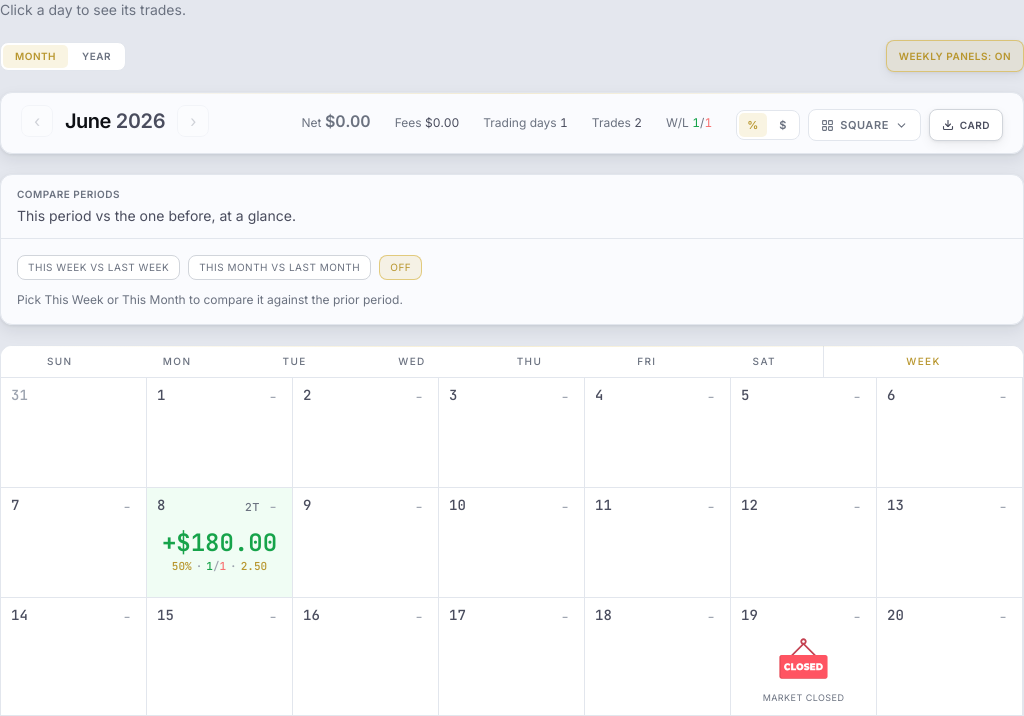
Test case: AM4 a ladder row opens the full week › AM4 the first June row shows Jun 1..6 and OPENS May 31..Jun 6
What coordinates should you click on to do the following:
click the button "Year"
I would click on:
 (97, 56)
Its box is [70,44,123,68].
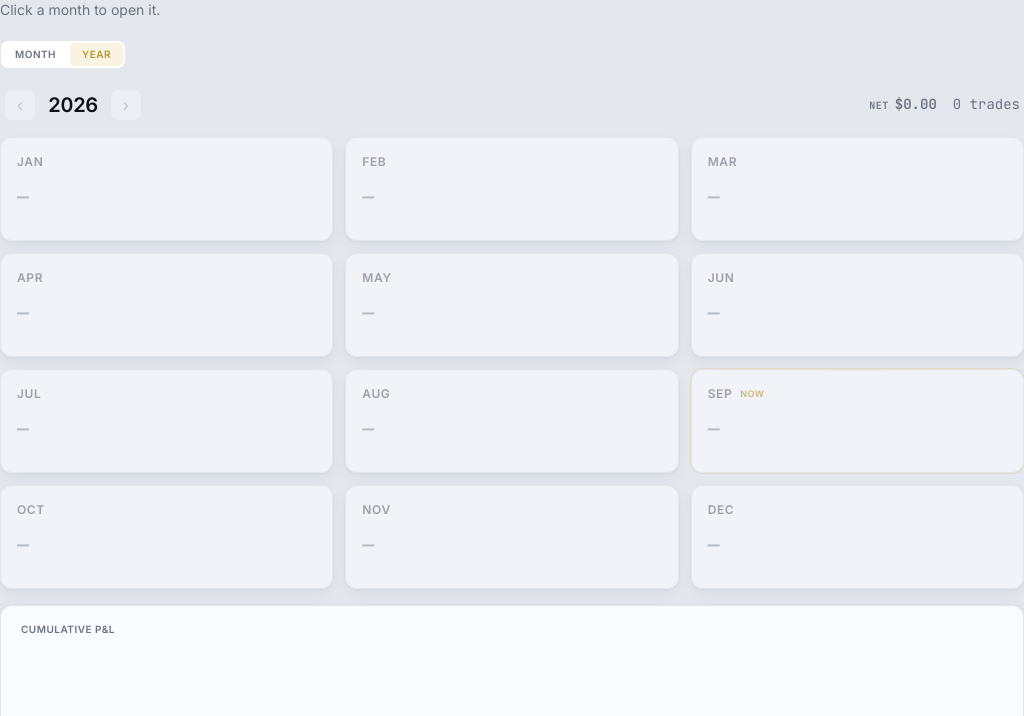
What coordinates should you click on to do the following:
click the button "Jun —"
I would click on:
 (721, 278)
Its box is [691,253,1023,357].
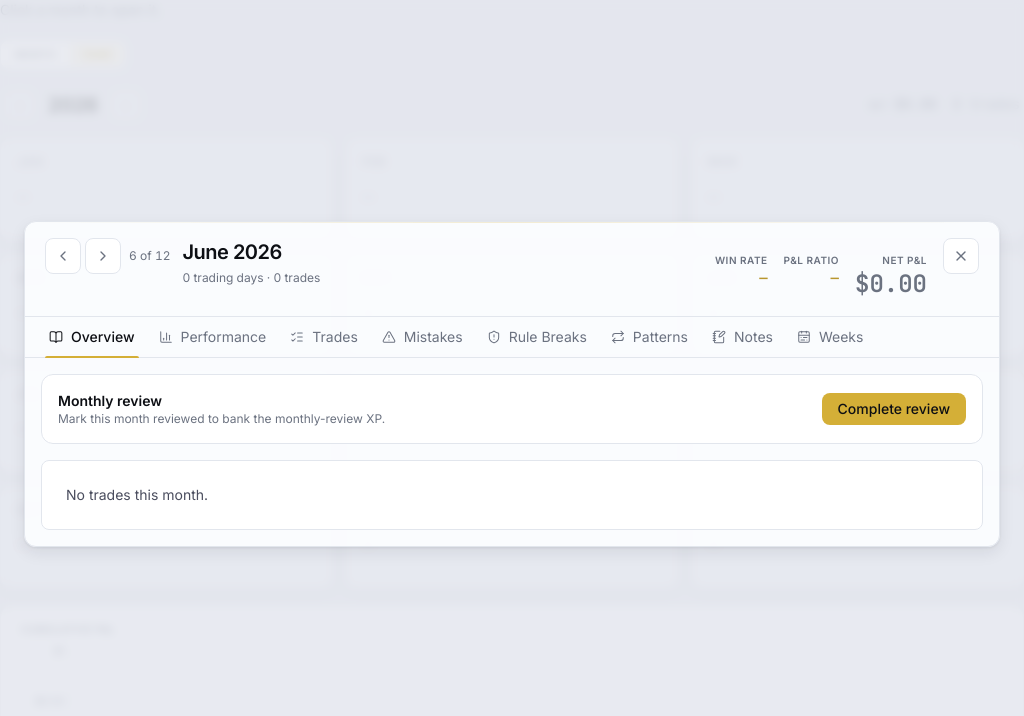
Check: the heading with id "month-review-title" reads "June 2026", box [182,240,282,264]
What coordinates should you click on to do the following:
click the tab "Weeks"
I would click on:
 (830, 337)
Its box is [785,317,875,357].
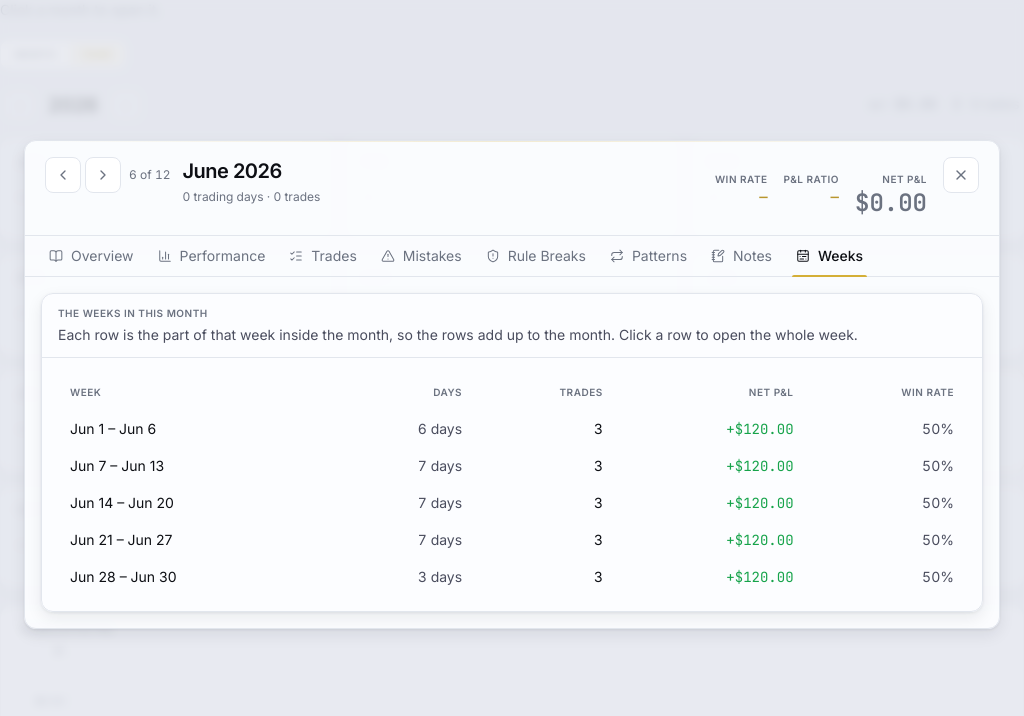
Check: the row "Jun 1 – Jun 6 6 days 3 +$120.00 50%" is shown
What coordinates should you click on to do the following:
click the row "Jun 1 – Jun 6 6 days 3 +$120.00 50%"
I would click on:
 (512, 428)
Its box is [58,410,966,447].
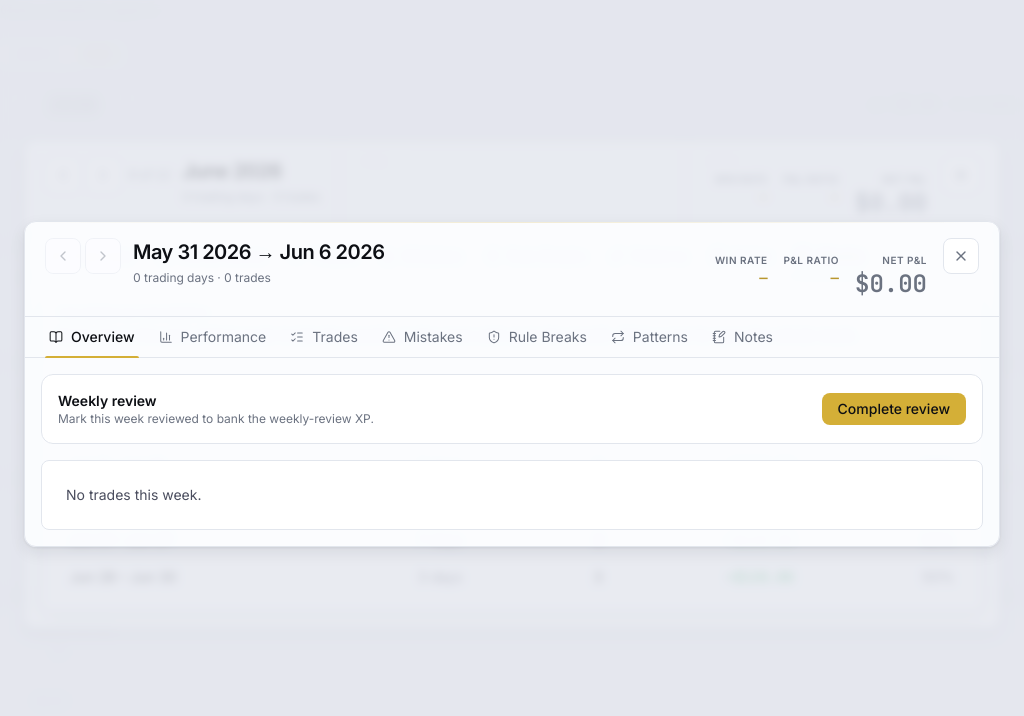
Check: the heading with id "week-review-title" reads "May 31 2026 → Jun 6 2026", box [133,240,384,264]
